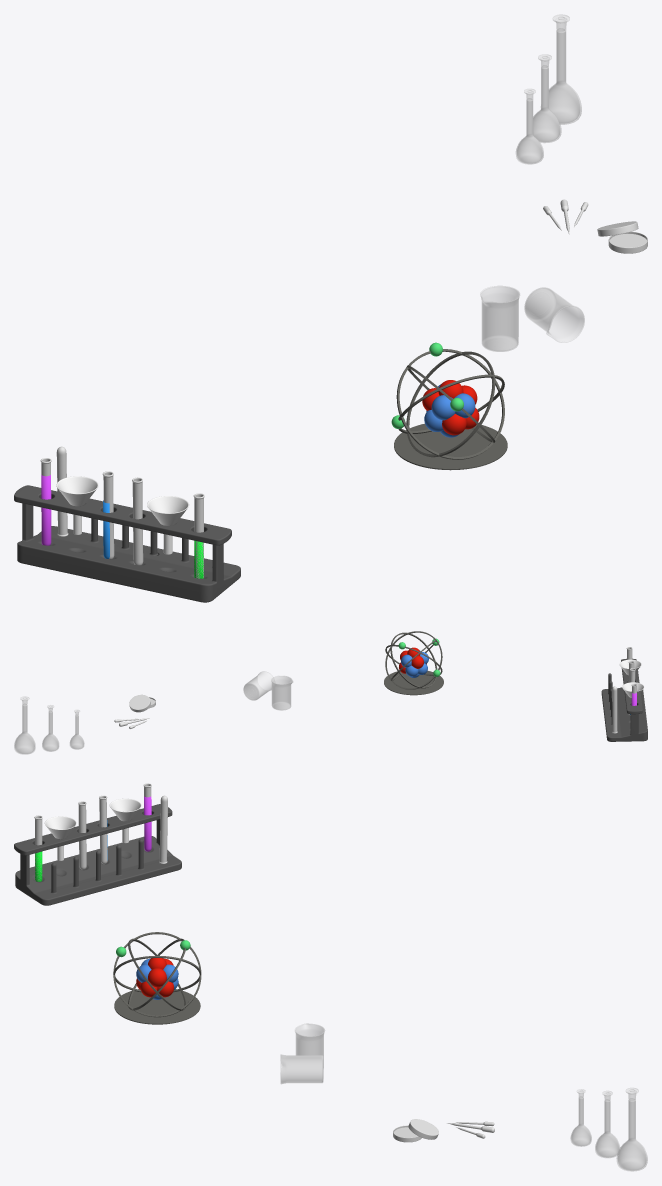
File: labo_chimie+Cuveisolation+newassets.fbx
3 views of the same model, one above another, from view 1: azimuth 30°, elevation 25°; view 2: azimuth 150°, elevation 25°; view 3: azimuth 270°, elevation 25° (orthographic). The views are drawn at different scales.
Visible parts, largest first — view 1: test_tube, star -table, Boule atome, Becher02, Becher01, Tampa01, Tampa02, Tampa03, test_tube_001_mesh.003; view 2: test_tube, star -table, Boule atome, Becher02, Tampa01, Becher01, Tampa02, lid, Tampa03, test_tube_001_mesh.004; view 3: test_tube, star -table, Boule atome, Tampa01, Becher01, Becher02, Tampa02, Tampa03.
Part boxes in pixels (bbox=[...]): test_tube: bbox=[14, 458, 240, 602]; star -table: bbox=[394, 349, 507, 470]; Boule atome: bbox=[391, 342, 479, 437]; Becher02: bbox=[480, 286, 519, 351]; Becher01: bbox=[524, 287, 584, 342]; Tampa01: bbox=[549, 14, 581, 124]; Tampa02: bbox=[533, 54, 561, 142]; Tampa03: bbox=[516, 89, 543, 164]; test_tube_001_mesh.003: bbox=[132, 477, 143, 565]; test_tube: bbox=[601, 658, 647, 741]; star -table: bbox=[384, 631, 443, 695]; Boule atome: bbox=[398, 638, 440, 677]; Becher02: bbox=[271, 676, 293, 710]; Tampa01: bbox=[14, 696, 35, 754]; Becher01: bbox=[243, 671, 274, 700]; Tampa02: bbox=[42, 705, 58, 751]; lid: bbox=[129, 694, 150, 712]; Tampa03: bbox=[70, 710, 84, 749]; test_tube_001_mesh.004: bbox=[612, 686, 617, 733]; test_tube: bbox=[14, 783, 181, 905]; star -table: bbox=[113, 932, 201, 1024]; Boule atome: bbox=[116, 940, 190, 999]; Tampa01: bbox=[616, 1088, 647, 1171]; Becher01: bbox=[280, 1054, 323, 1084]; Becher02: bbox=[295, 1023, 324, 1067]; Tampa02: bbox=[595, 1091, 619, 1157]; Tampa03: bbox=[570, 1089, 591, 1146].
Size of the model in its own units: 3.3 by 2.71 by 0.3768.
